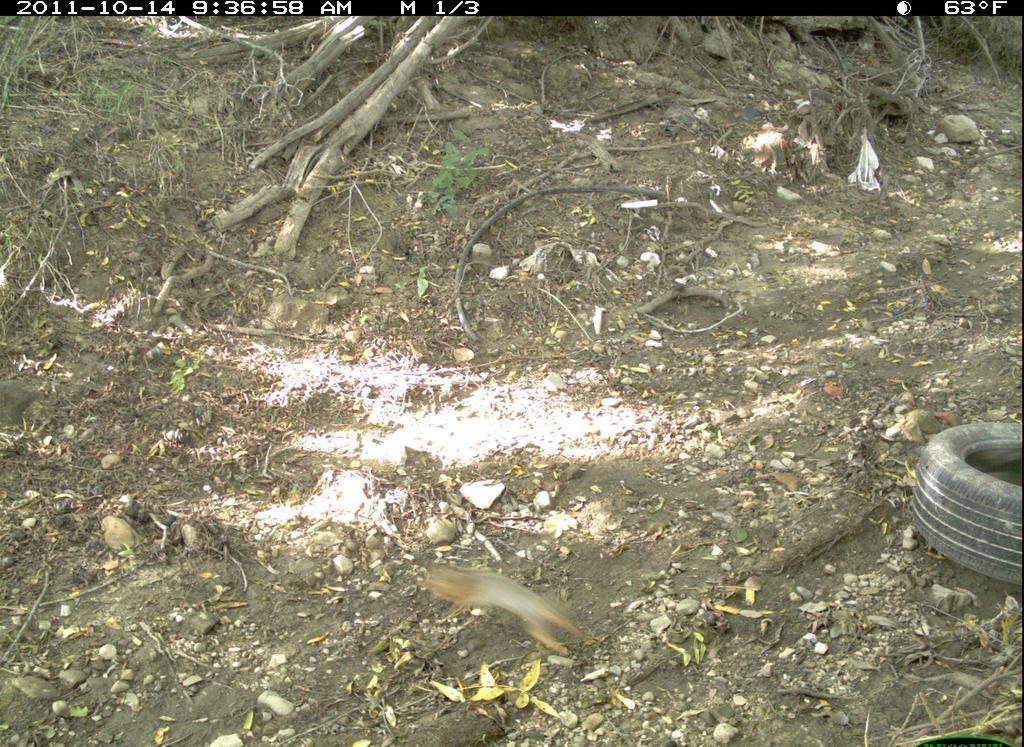squirrel: (415, 556, 602, 670)
